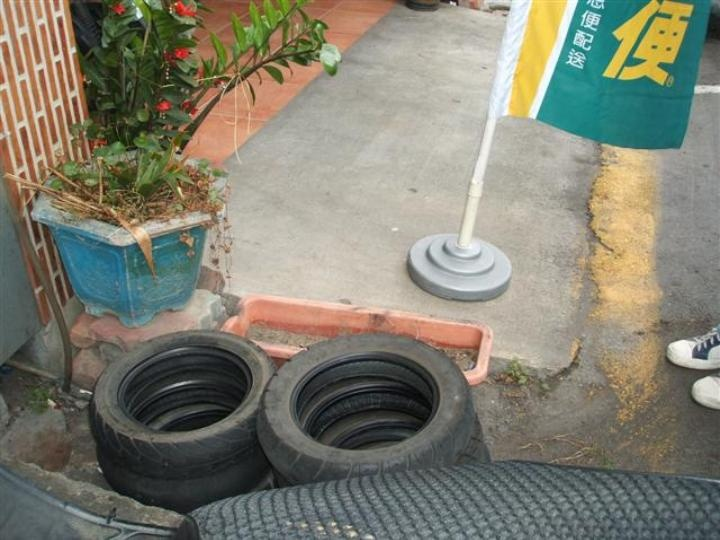tire: (256, 330, 477, 486), (87, 327, 278, 481)
